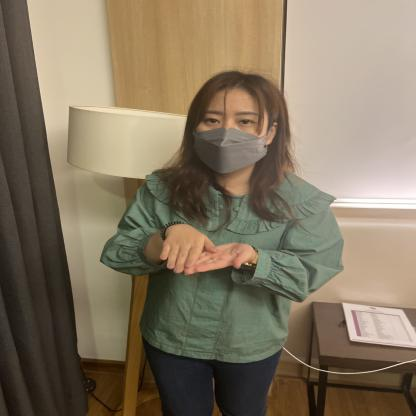Love: (90, 209, 294, 279)
